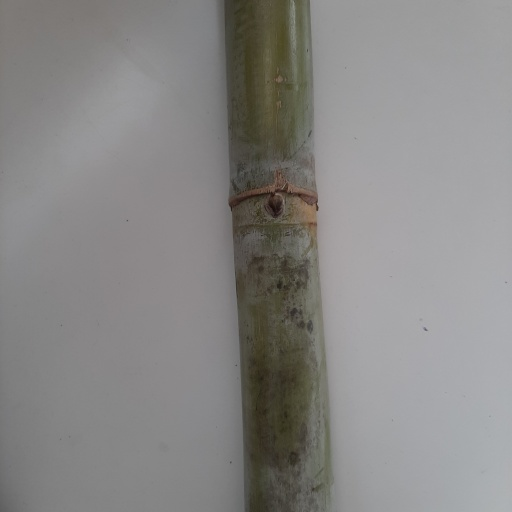Bud: (265, 194, 284, 217)
